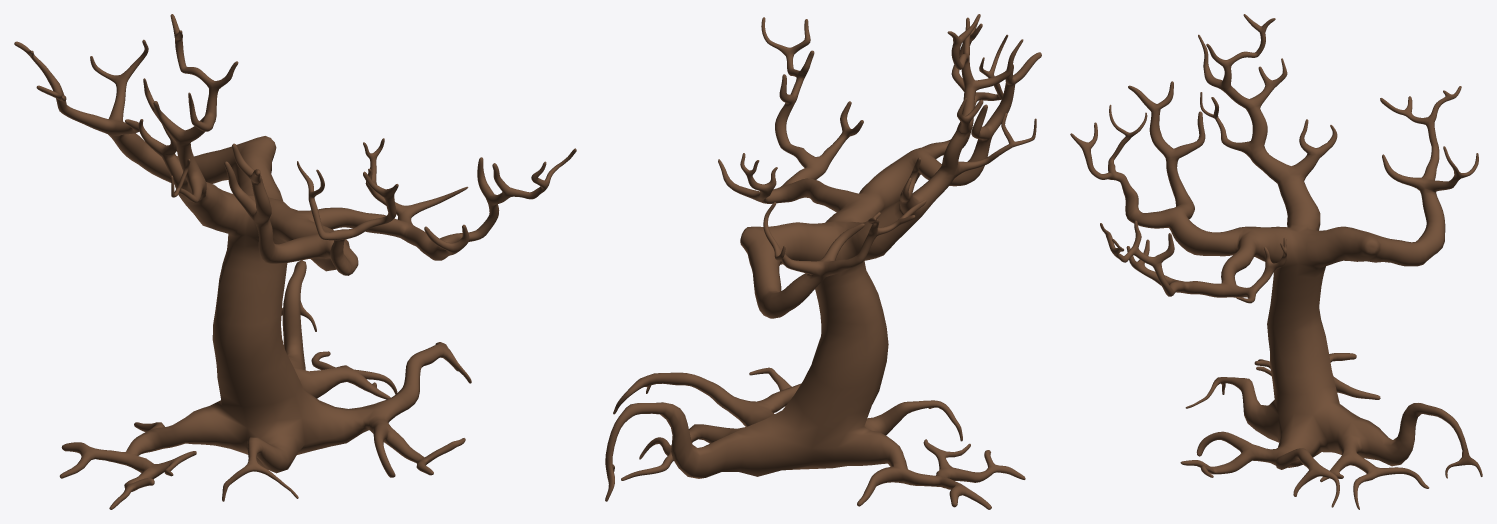
File: tree.fbx
3 renders of one model, left to right at view 1: azimuth 30°, elevation 25°; view 2: azimuth 150°, elevation 25°; view 3: azimuth 270°, elevation 25°, orthographic. The views are drawn at different scales.
Visible parts, largest first — view 1: LeaflessTree8; view 2: LeaflessTree8; view 3: LeaflessTree8.
Boxes of the visible parts, bbox=[...] form: LeaflessTree8: bbox=[14, 14, 576, 509]; LeaflessTree8: bbox=[605, 14, 1041, 509]; LeaflessTree8: bbox=[1070, 14, 1482, 509].
Size of the model in its own units: 12.09 by 14 by 13.59.
